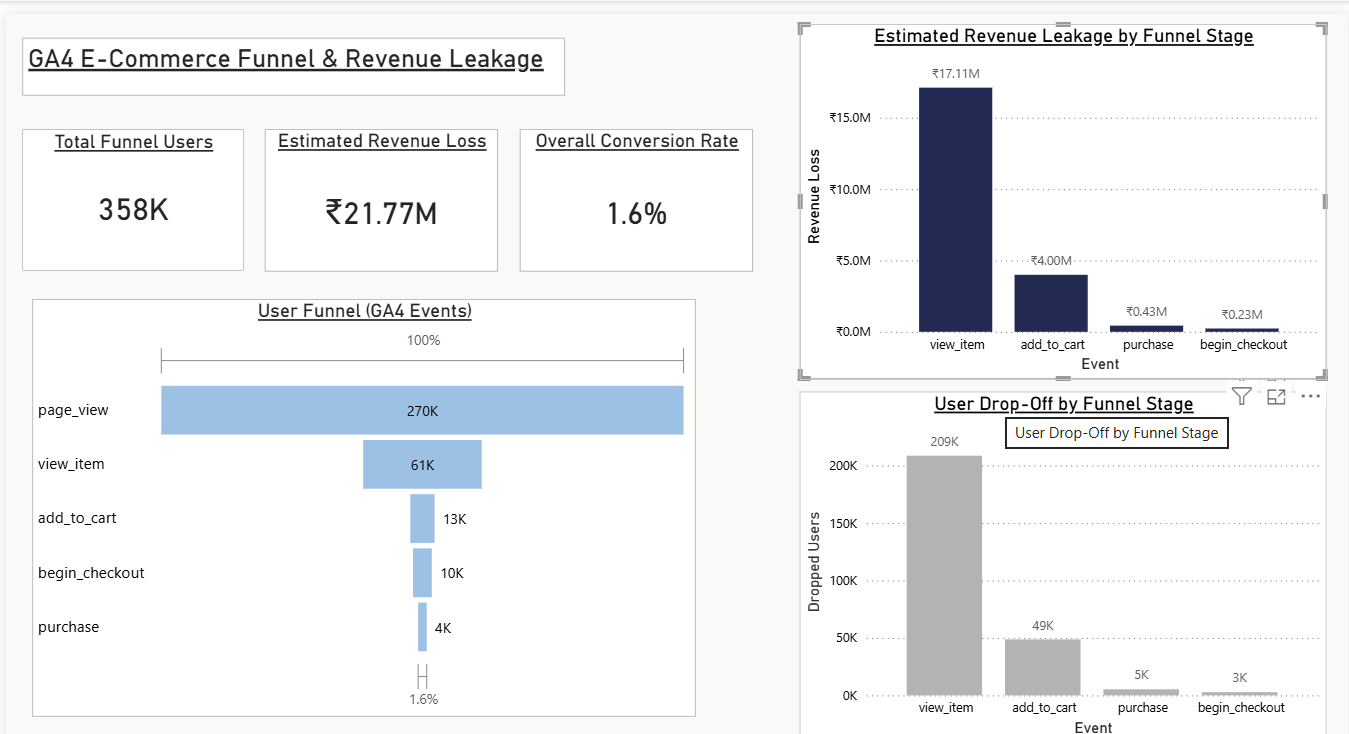

What the dashboard file says about the page in this screenshot:
{"tool":"powerbi","page":{"name":"Page 1","canvas":[1280,720],"ordinal":0},"visuals":[{"type":"card","title":"Total Funnel Users","fields":{"Values":["Sum(funnel_results.users)"]},"box":[15,110,211.2,135],"z":0},{"type":"card","title":"Estimated Revenue Loss","fields":{"Values":["Sum(funnel_results.estimated_revenue_loss)"]},"box":[246.9,110,222.5,136.2],"z":1000},{"type":"funnel","title":"User Funnel (GA4 Events)","fields":{"Category":["funnel_results.event_name"],"Y":["Sum(funnel_results.users)"]},"box":[25,271.2,632.5,398.8],"z":2000},{"type":"clusteredColumnChart","title":"User Drop-Off by Funnel Stage","fields":{"Category":["funnel_results.event_name"],"Y":["Sum(funnel_results.dropped_users)"]},"box":[757.5,360,502.5,335],"z":3000},{"type":"clusteredColumnChart","title":"Estimated Revenue Leakage by Funnel Stage","fields":{"Category":["funnel_results.event_name"],"Y":["Sum(funnel_results.estimated_revenue_loss)","Sum(funnel_results.estimated_revenue_loss)"]},"box":[757.5,10,502.5,338.8],"z":4000},{"type":"card","title":"Overall Conversion Rate","fields":{"Values":["funnel_results.Overall Conversion Rate"]},"box":[490,110,222.5,136.2],"z":5000},{"type":"textbox","box":[15,22.5,517.5,55],"z":6000}]}

Visuals, with their boxes on the page's 1280x720 design canvas (x1, y1, x2, y2). These are canvas units, not pixel positions in the 1349x734 screenshot, which may show the page scaled, cropped or inside an application window:
"Total Funnel Users" card: region(15, 110, 226, 245)
"Estimated Revenue Loss" card: region(247, 110, 469, 246)
"User Funnel (GA4 Events)" funnel: region(25, 271, 658, 670)
"User Drop-Off by Funnel Stage" clusteredColumnChart: region(758, 360, 1260, 695)
"Estimated Revenue Leakage by Funnel Stage" clusteredColumnChart: region(758, 10, 1260, 349)
"Overall Conversion Rate" card: region(490, 110, 712, 246)
textbox: region(15, 22, 532, 78)
